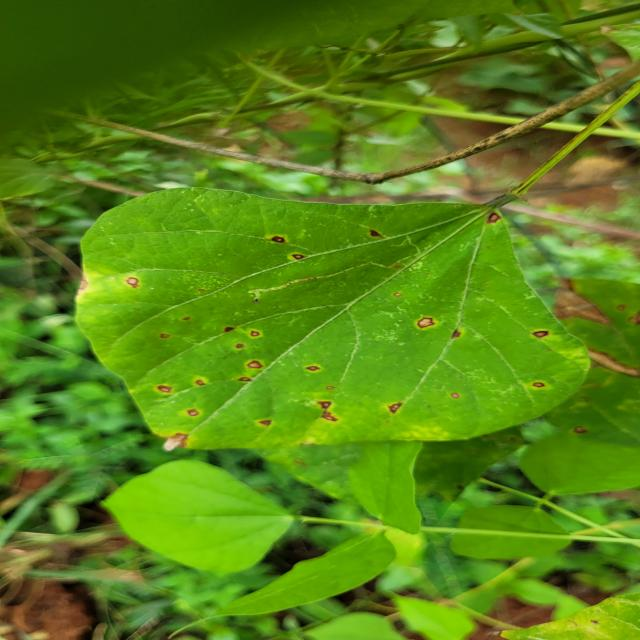Dolicos bean_cercospora leaf spot: (65, 183, 576, 446)
Dolicos bean_healthy: (113, 464, 312, 580), (192, 522, 386, 608)
